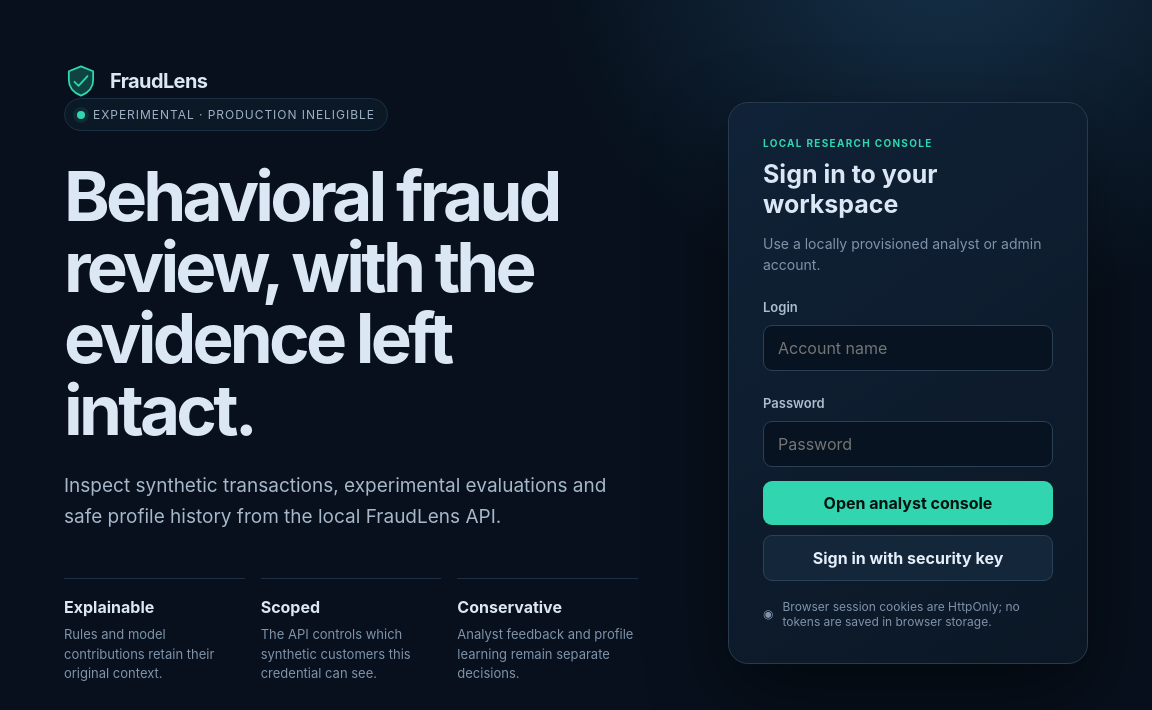
analyst console › distinguishes retained insufficient evidence from no evaluation
Type "analyst-one" into the field labelled "Login" at [908, 348], box [763,325,1053,371]
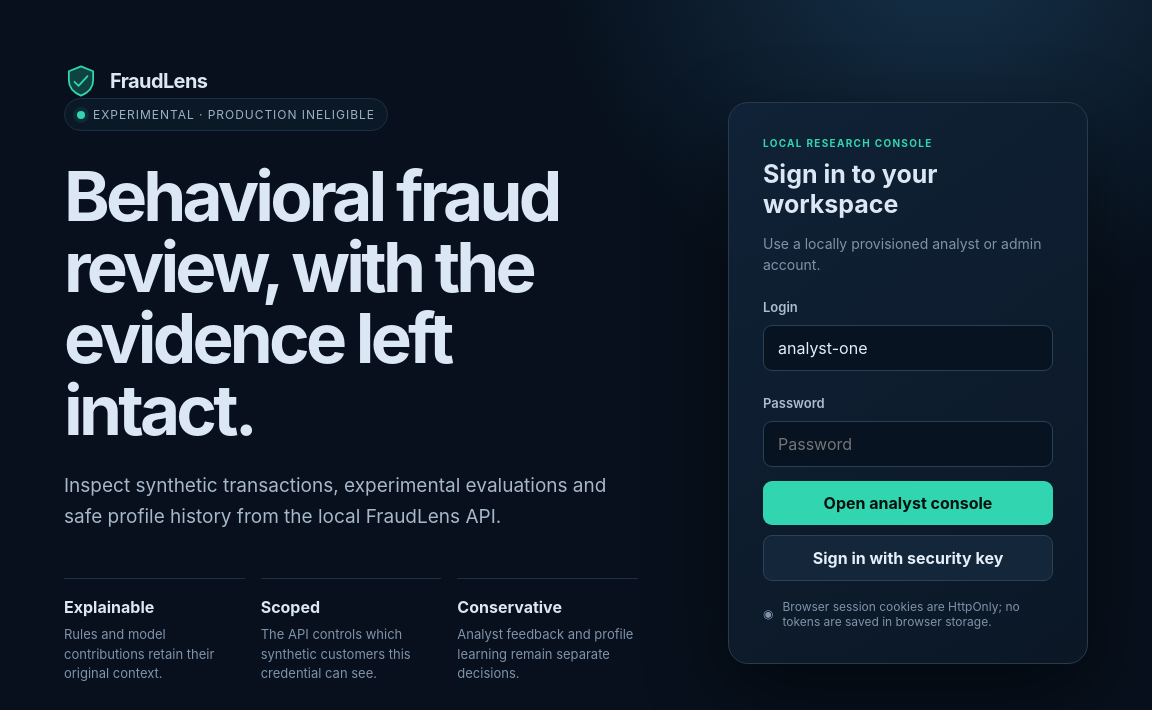
Type "long password" into the password field labelled "Password" at [908, 444], box [763,421,1053,467]
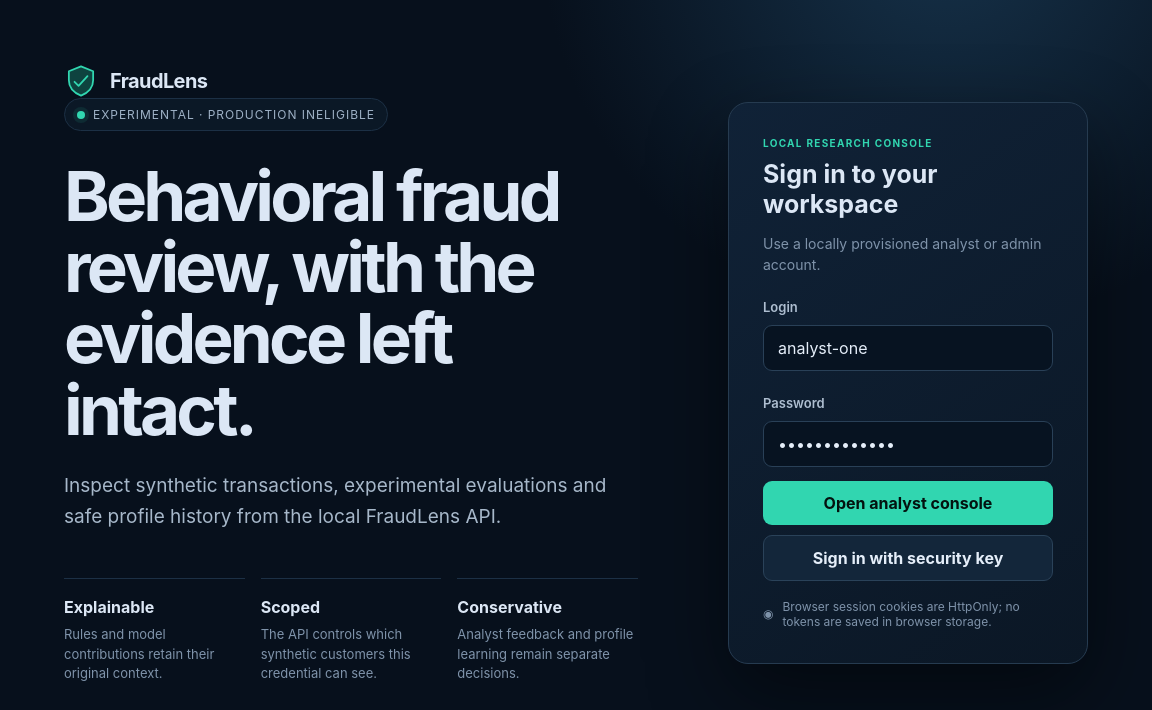
Click the button "Open analyst console" at [908, 503], box [763,481,1053,525]
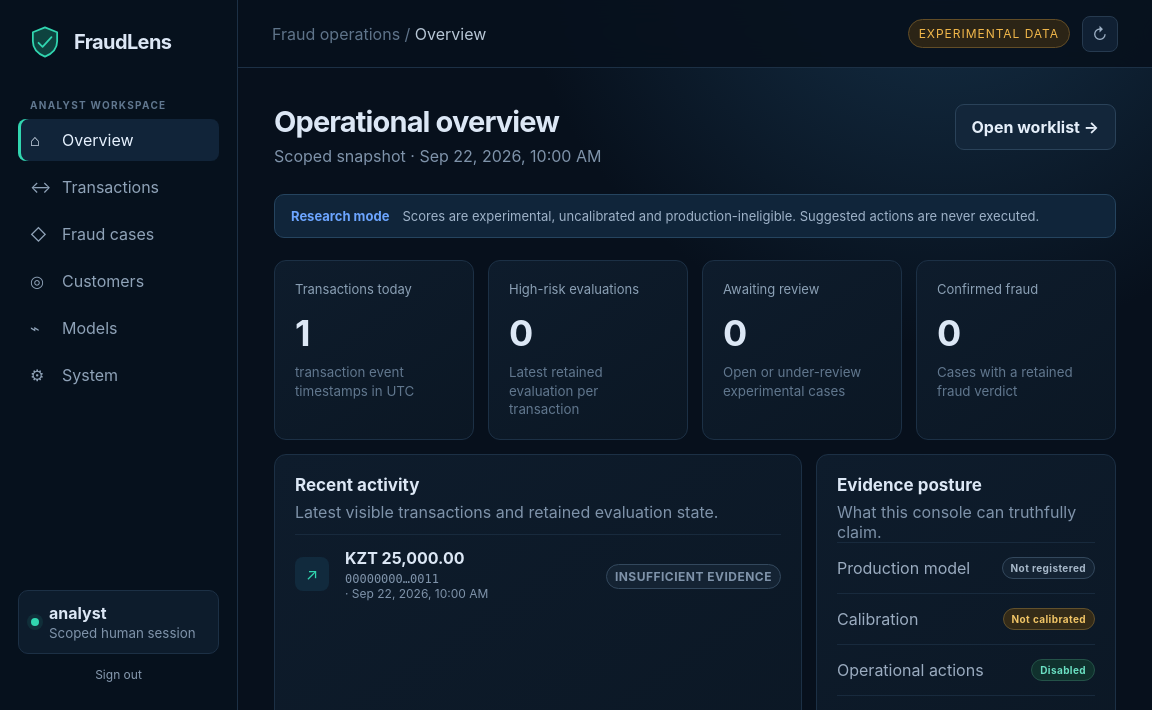
Expected: the text "INSUFFICIENT EVIDENCE" is shown, [606,564,781,589]
